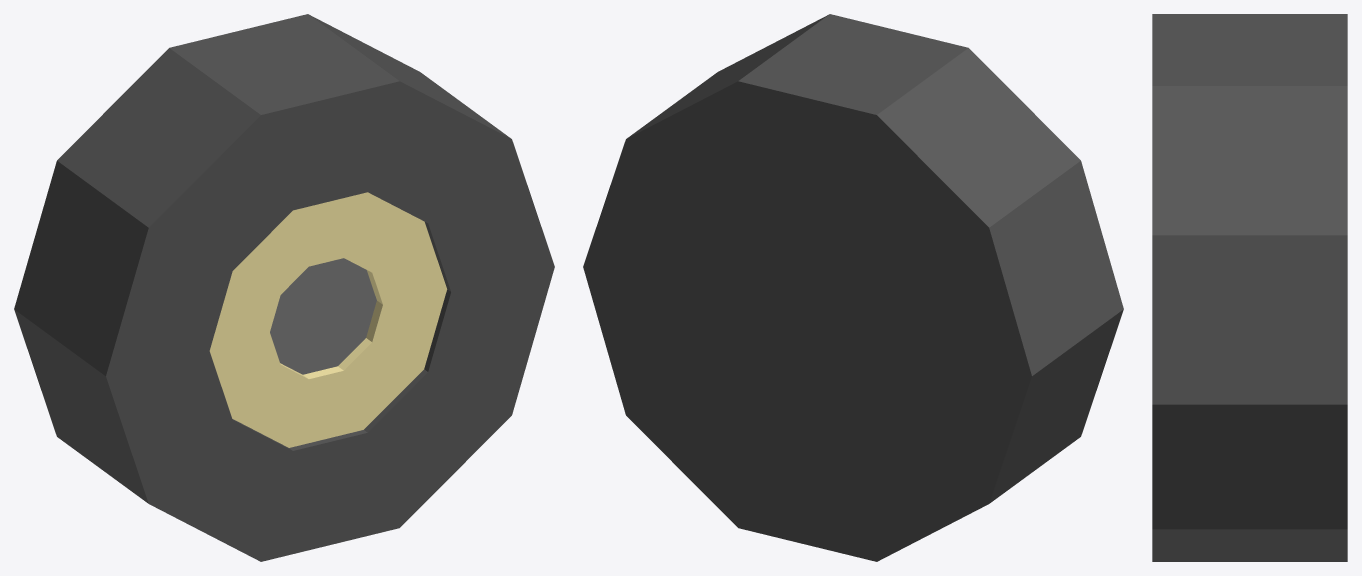
Rendered from rink1.fbx.
The picture shows the model from 3 angles, left to right: view 1: azimuth 30°, elevation 25°; view 2: azimuth 150°, elevation 25°; view 3: azimuth 270°, elevation 25°; orthographic projection. The views are drawn at different scales.
Visible parts, largest first — view 1: Cylinder_1_4; view 2: Cylinder_1_4; view 3: Cylinder_1_4.
Part boxes in pixels (box(x1,y1,x2,y2)): Cylinder_1_4: box(14, 14, 554, 561); Cylinder_1_4: box(583, 14, 1123, 561); Cylinder_1_4: box(1152, 14, 1347, 561).
Bounding box in the file's own units: 93.35 × 88.78 × 33.08.
